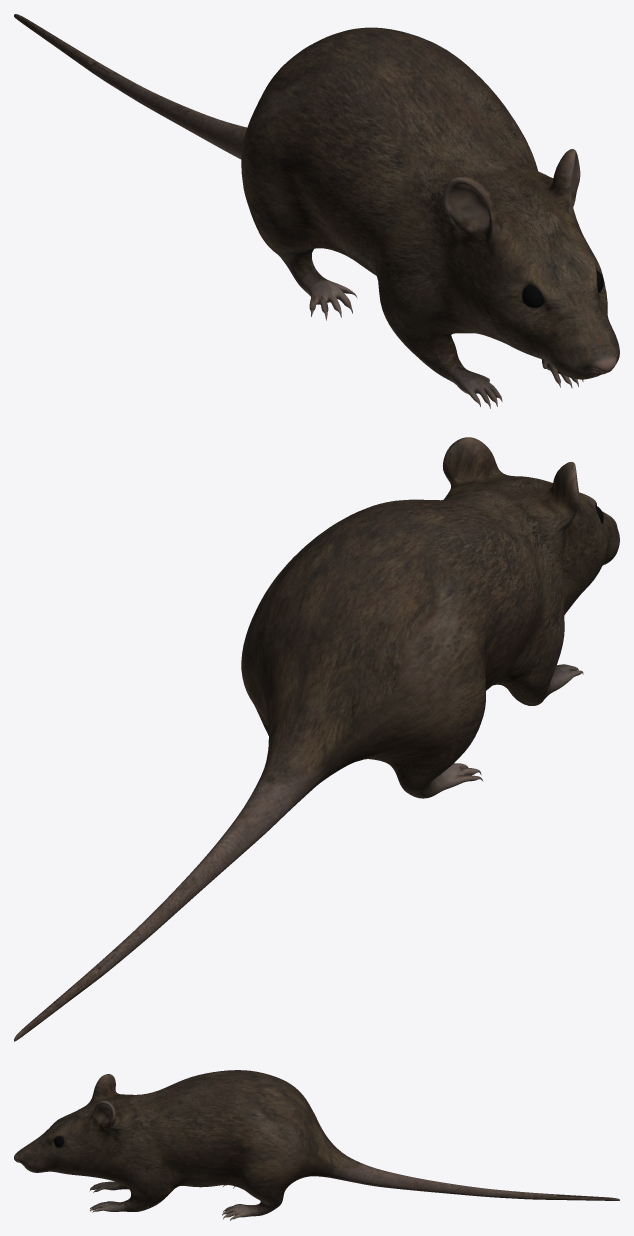
Rendered from street_rat.gltf.
The picture shows the model from 3 angles, top to bottom: view 1: azimuth 30°, elevation 25°; view 2: azimuth 150°, elevation 25°; view 3: azimuth 270°, elevation 25°; orthographic projection. The views are drawn at different scales.
Parts seen in each view (by area): view 1: street_rat; view 2: street_rat; view 3: street_rat.
Part boxes in pixels (x1=…): street_rat: x1=14, y1=14, x2=619, y2=408; street_rat: x1=14, y1=437, x2=619, y2=1041; street_rat: x1=14, y1=1070, x2=619, y2=1220.
Size of the model in its own units: 0.032 by 0.0339 by 0.1483.
1 material, 1 textured.
